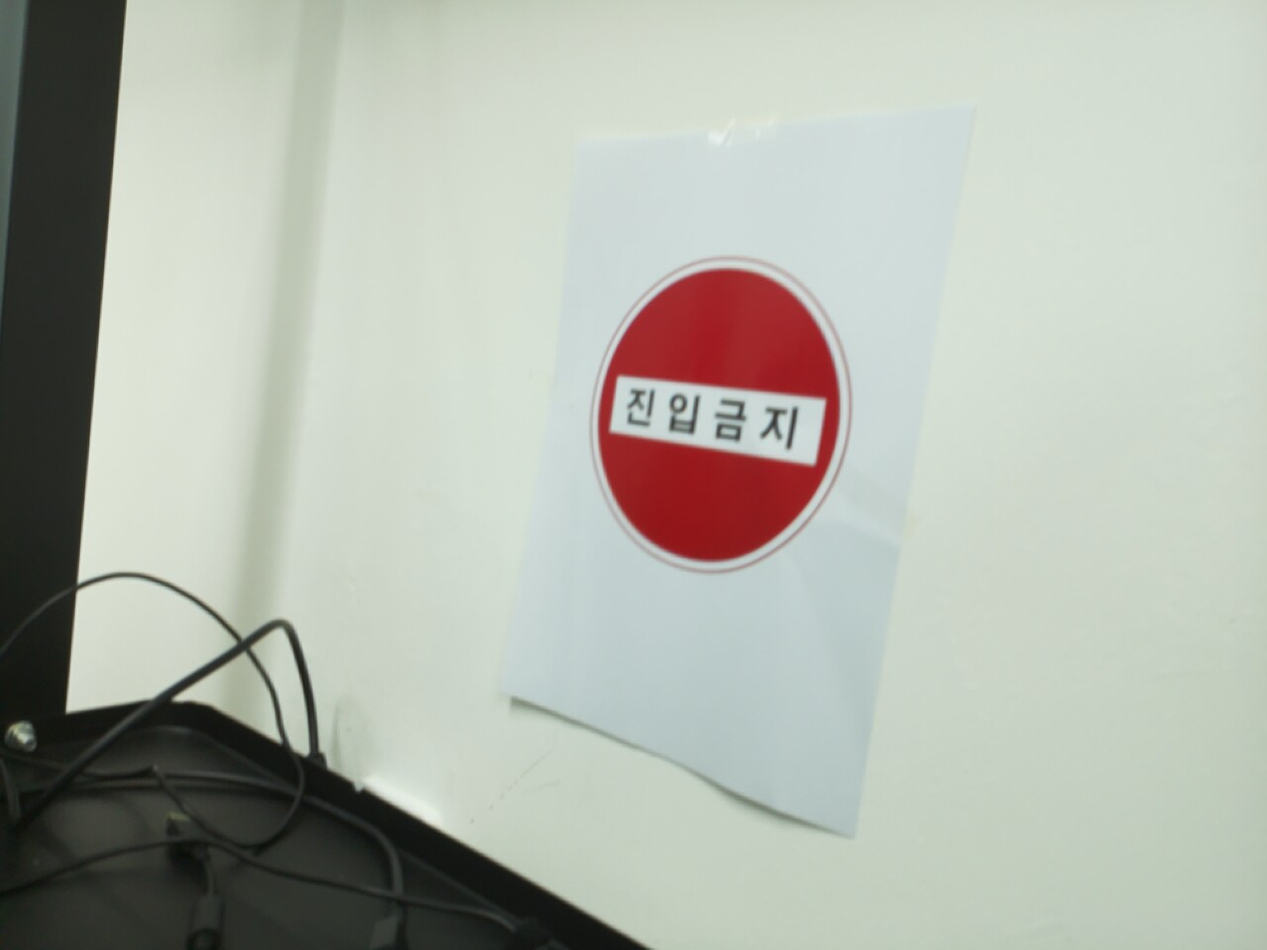do_not_enter: (589, 258, 849, 572)
